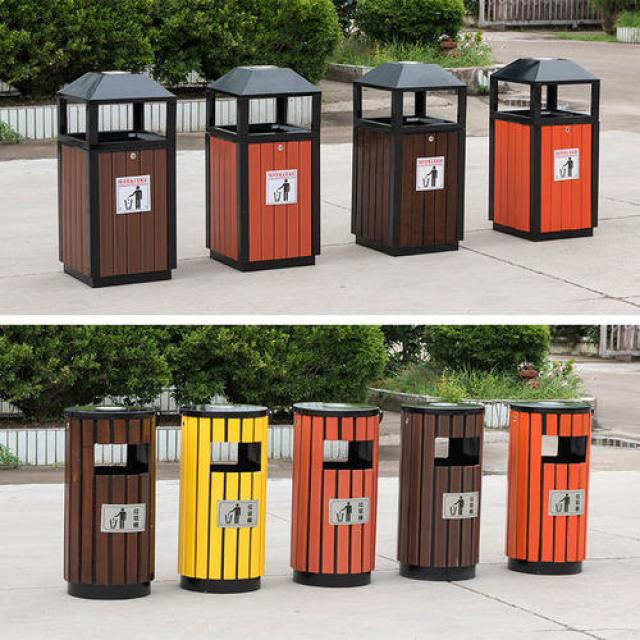garbage_bin: (55, 70, 175, 287), (204, 66, 322, 272), (348, 59, 466, 256), (486, 55, 599, 241), (63, 405, 155, 599), (289, 399, 383, 585), (176, 403, 266, 593), (394, 401, 485, 581), (503, 399, 591, 575)
